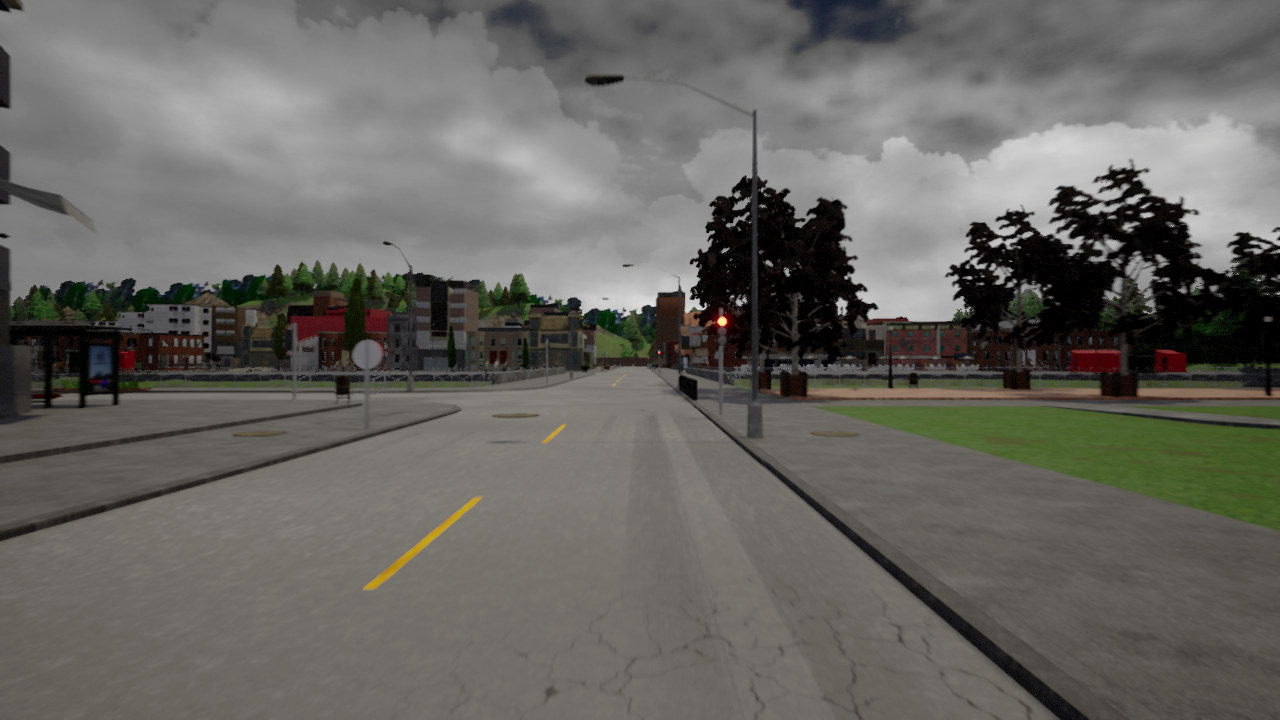red: (716, 315, 728, 347)
